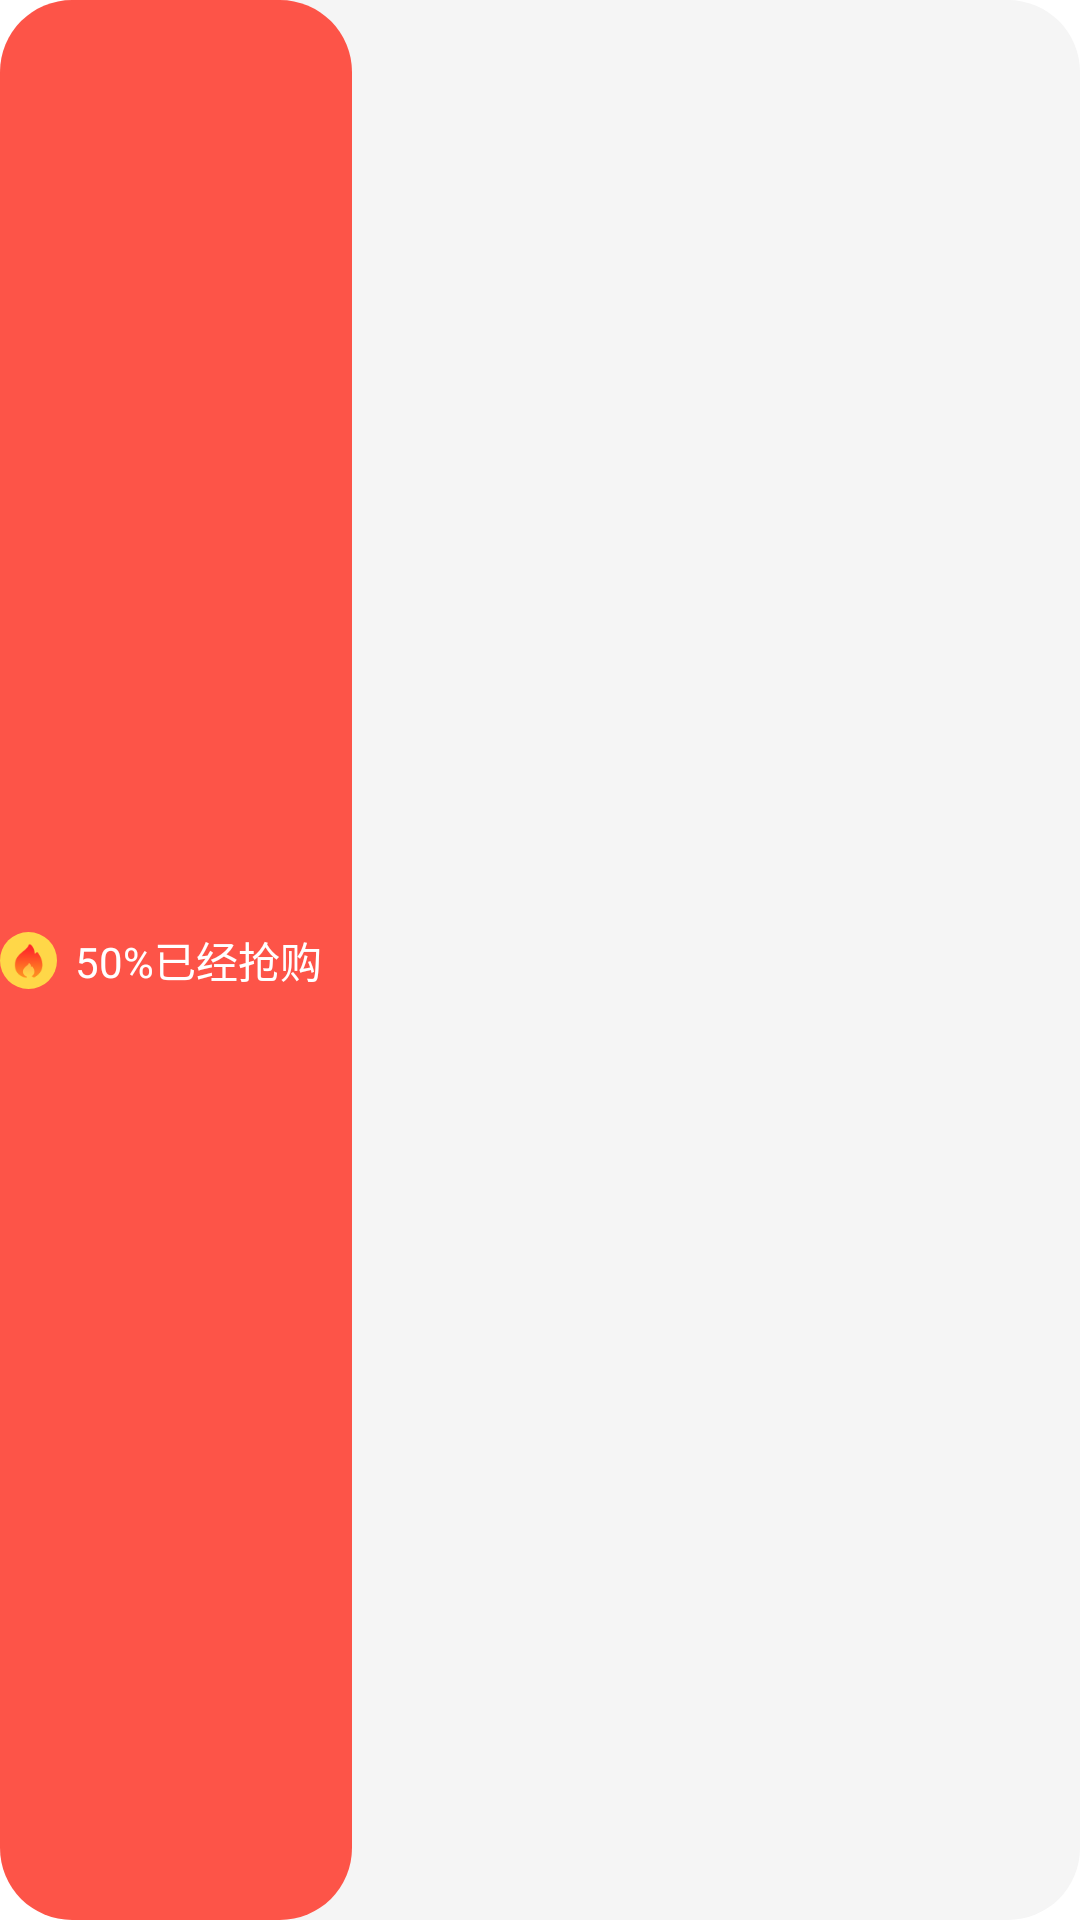

Screen size 1080*1920. Icon name, then its center in pixels as point (x, y):
aec kill fire: point (28, 960)
